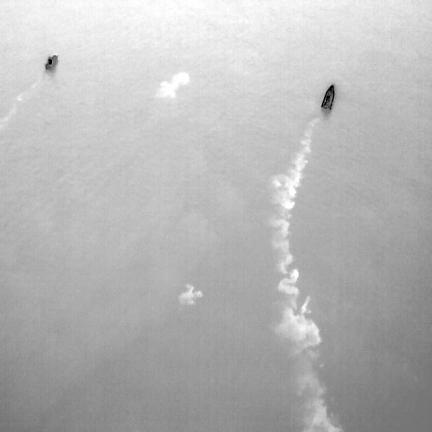flukeprints: (156, 73, 189, 98), (178, 285, 202, 305)
